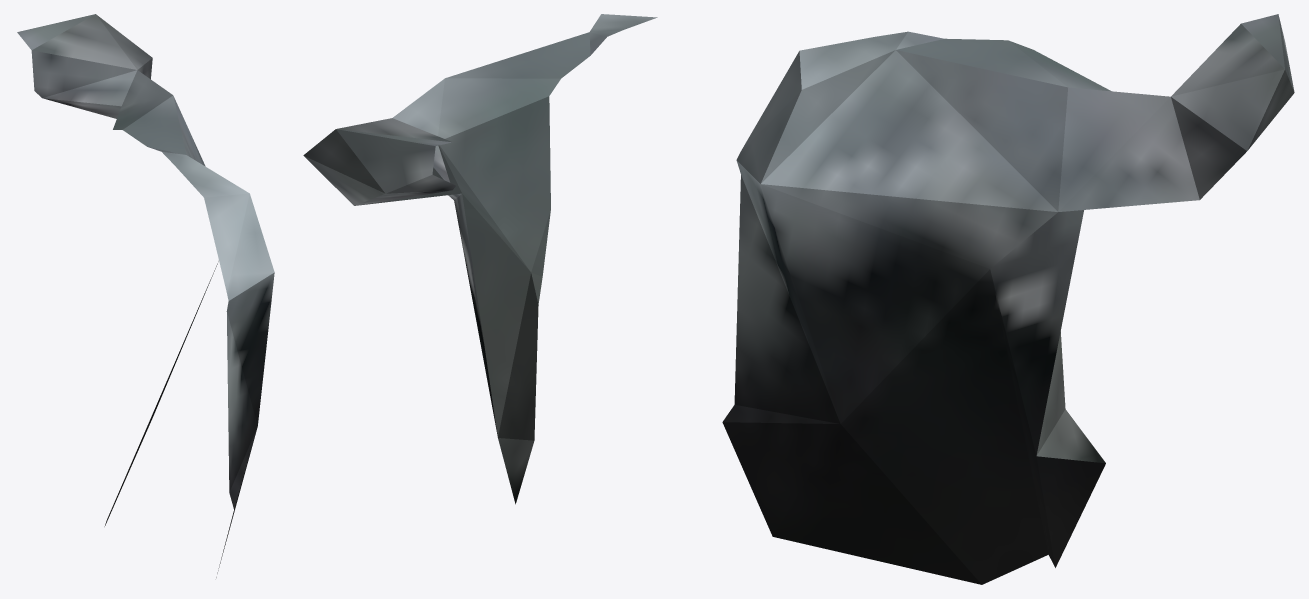
3 renders of one model, left to right at view 1: azimuth 30°, elevation 25°; view 2: azimuth 150°, elevation 25°; view 3: azimuth 270°, elevation 25°, orthographic. The views are drawn at different scales.
Size of the model in its own units: 0.0283 by 0.0975 by 0.0885.
Materials: 1 (1 with a texture image).
